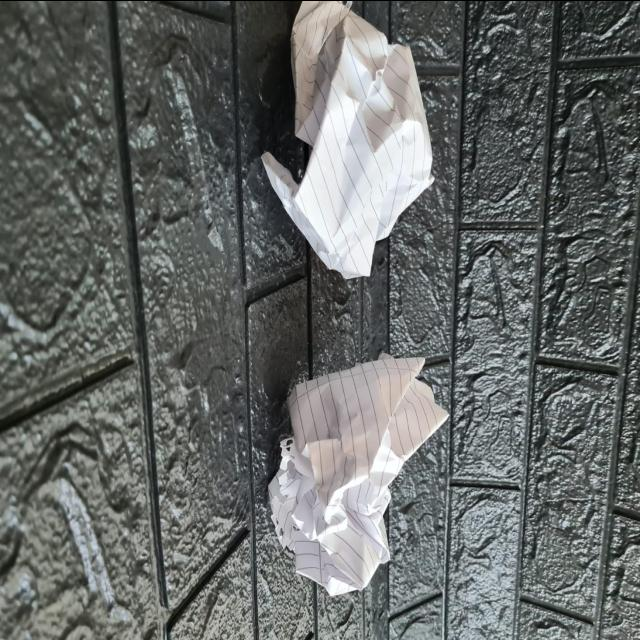kertas: (269, 0, 433, 292), (266, 352, 450, 602)
